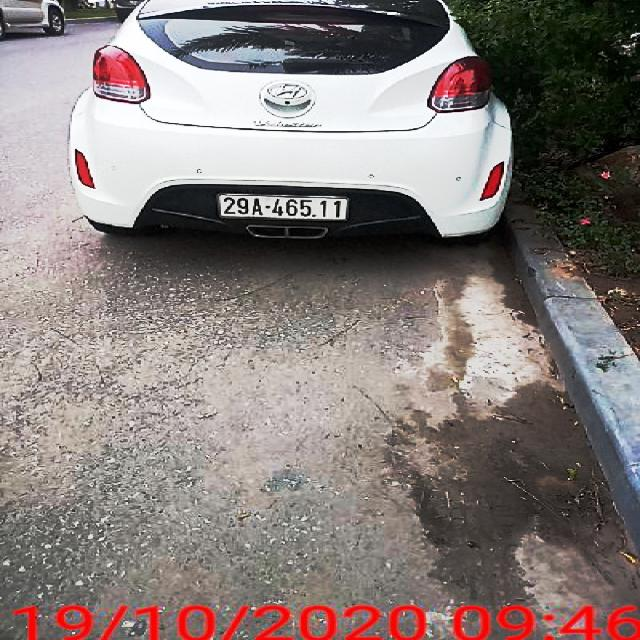license_plate: (221, 195, 349, 221)
